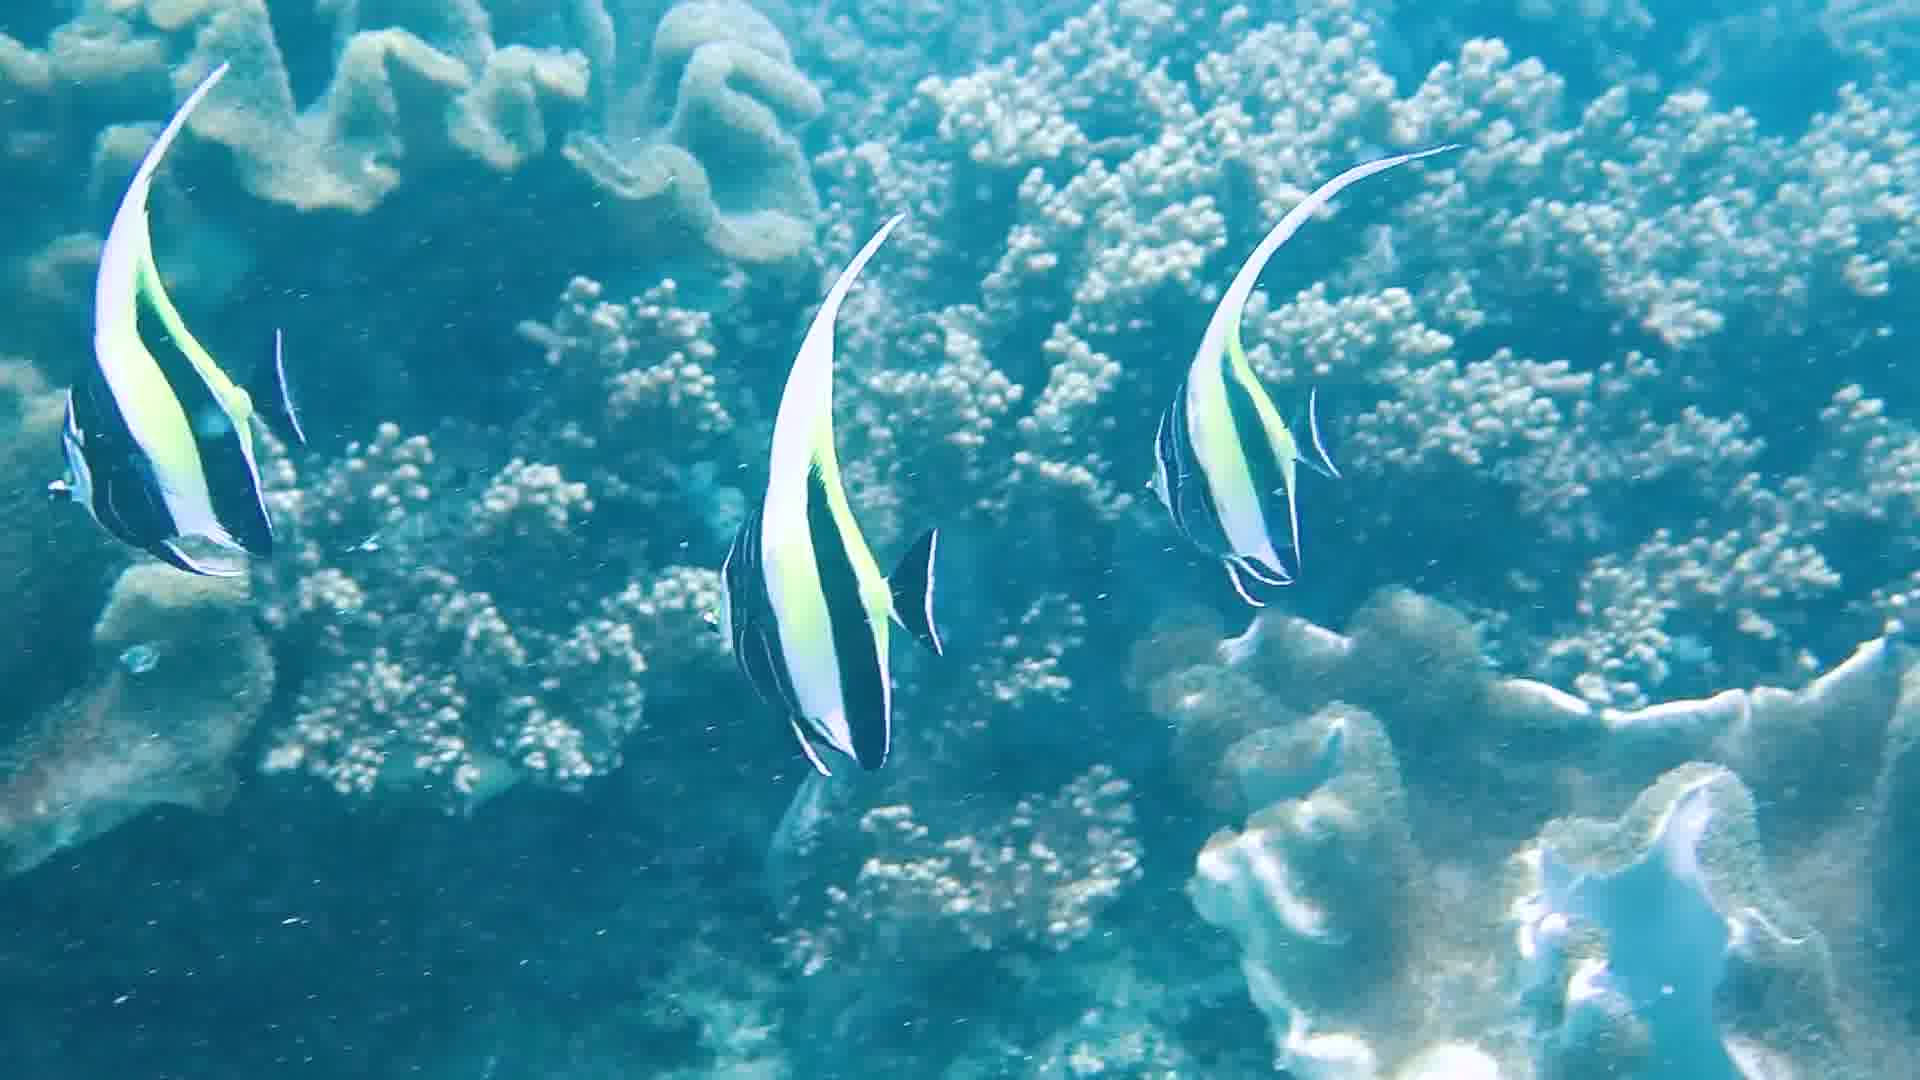Zanclus cornutus: (655, 348, 977, 785), (30, 175, 351, 613), (1135, 225, 1389, 621)
